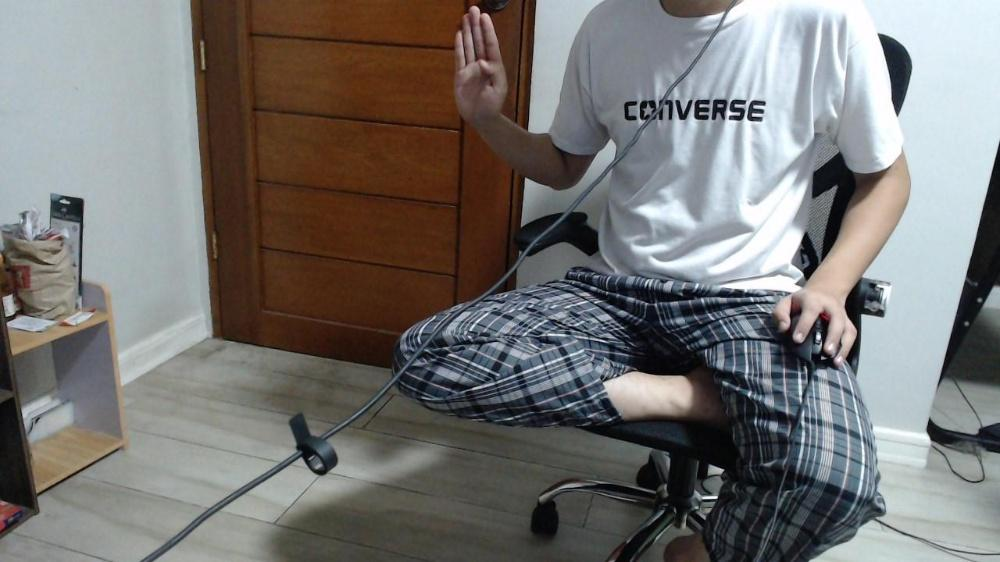b: (454, 2, 506, 124)
